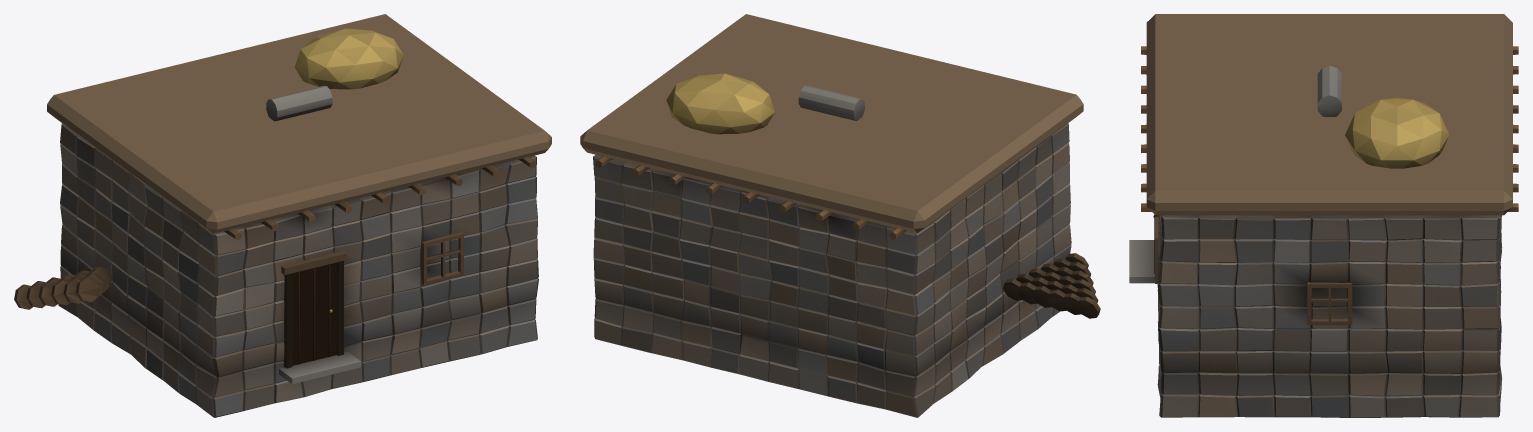
File: house_plateau_1.glb
3 renders of one model, left to right at view 1: azimuth 30°, elevation 25°; view 2: azimuth 150°, elevation 25°; view 3: azimuth 270°, elevation 25°, orthographic. The views are drawn at different scales.
Visible parts, largest first — view 1: box; view 2: box; view 3: box.
Part boxes in pixels (bbox=[...]): box: bbox=[14, 14, 551, 417]; box: bbox=[580, 14, 1100, 417]; box: bbox=[1129, 14, 1518, 417].
Size of the model in its own units: 9.75 by 5.09 by 6.7.
